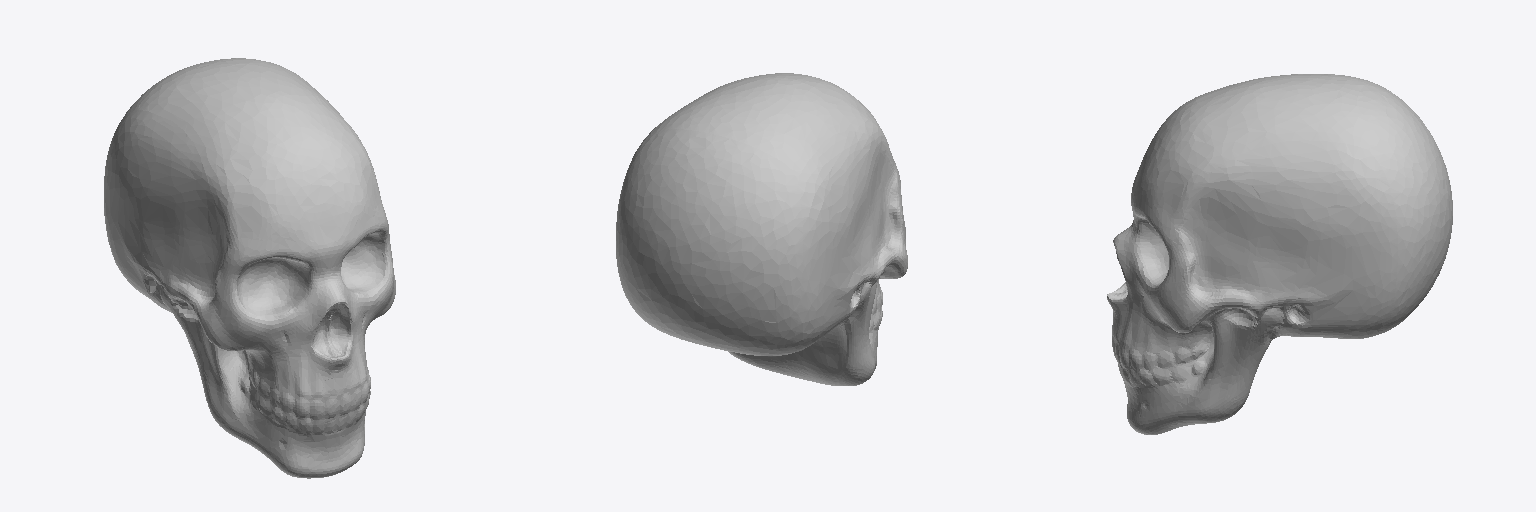
The model's file is Skull.obj.
3 renders of one model, left to right at view 1: azimuth 30°, elevation 25°; view 2: azimuth 150°, elevation 25°; view 3: azimuth 270°, elevation 25°, orthographic.
Parts seen in each view (by area): view 1: Skull; view 2: Skull; view 3: Skull.
Boxes of the visible parts, x1,y1,x2,y2 form: Skull: [104, 58, 395, 478]; Skull: [616, 73, 907, 385]; Skull: [1107, 74, 1452, 434].
Size of the model in its own units: 1.67 by 2.68 by 2.48.